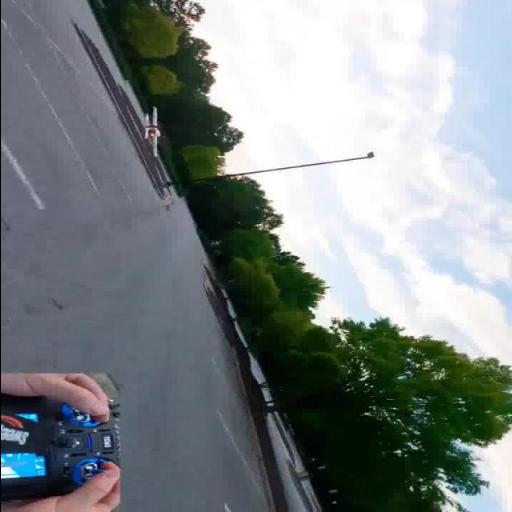uav: (132, 106, 166, 161)
